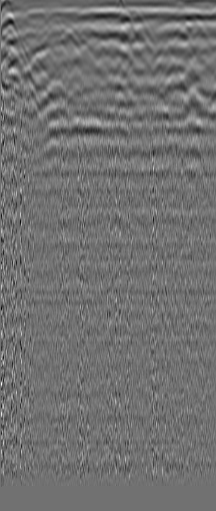오수: (22, 41, 55, 67)
우수: (182, 19, 211, 52)
